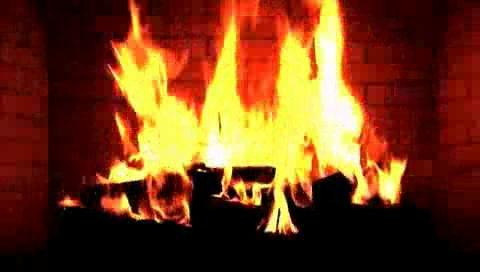fire: (96, 1, 412, 233)
